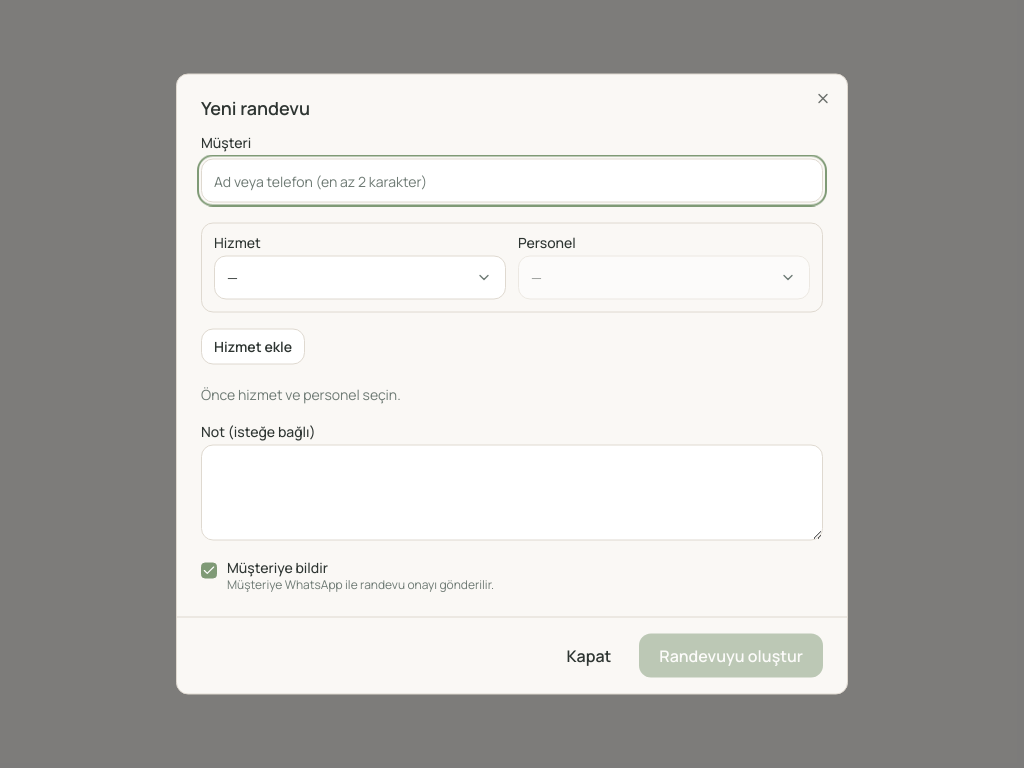
Test: randevu oluşturma › alan hataları `fieldErrors`ten forma DÜŞÜYOR
Type "ayşe" into the dropdown labelled "Müşteri".
click(512, 180); type("ayşe")  # box left=201, top=158, right=823, bottom=202
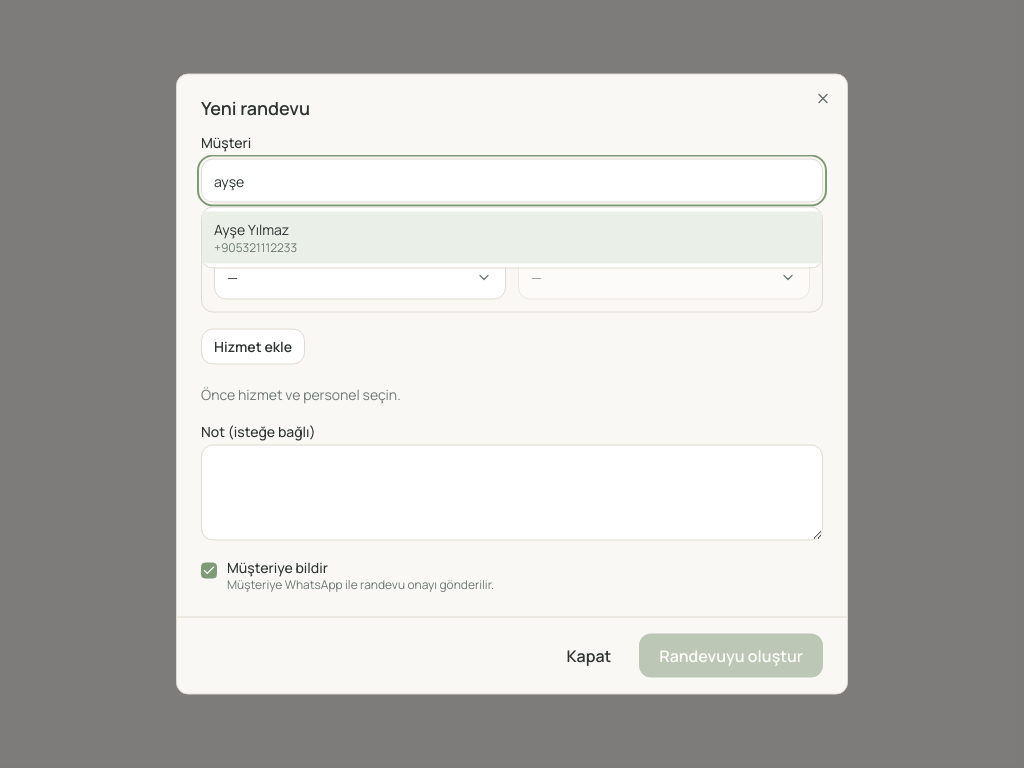
Click the option "Ayşe Yılmaz +905321112233".
click(252, 229)  # box left=202, top=212, right=822, bottom=264
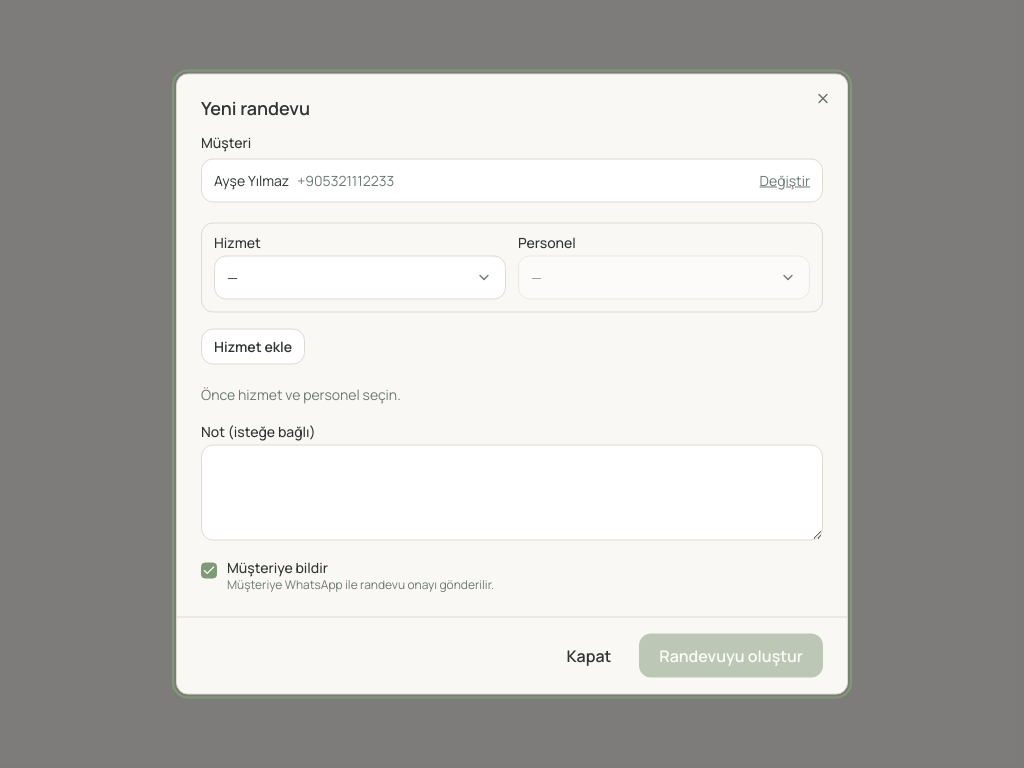
Select "Lazer (30 dk)" in the dropdown labelled "Hizmet" at (360,278), box left=214, top=256, right=506, bottom=300
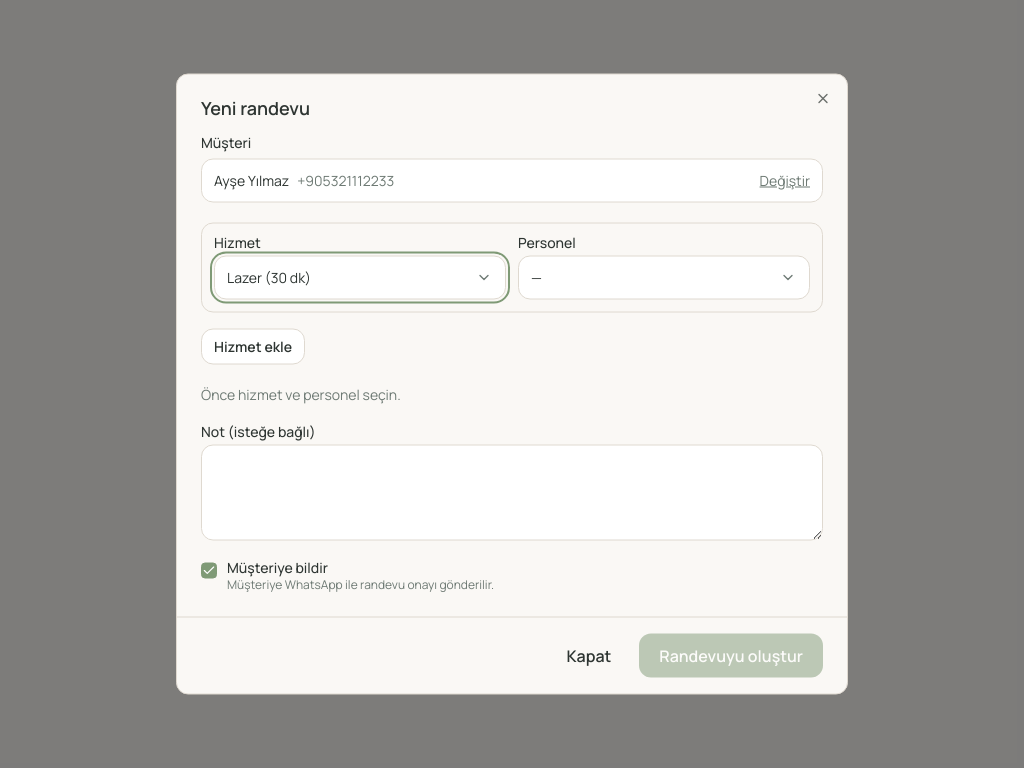
Select "Zeynep Kaya" in the dropdown labelled "Personel" at (664,278), box left=518, top=256, right=810, bottom=300
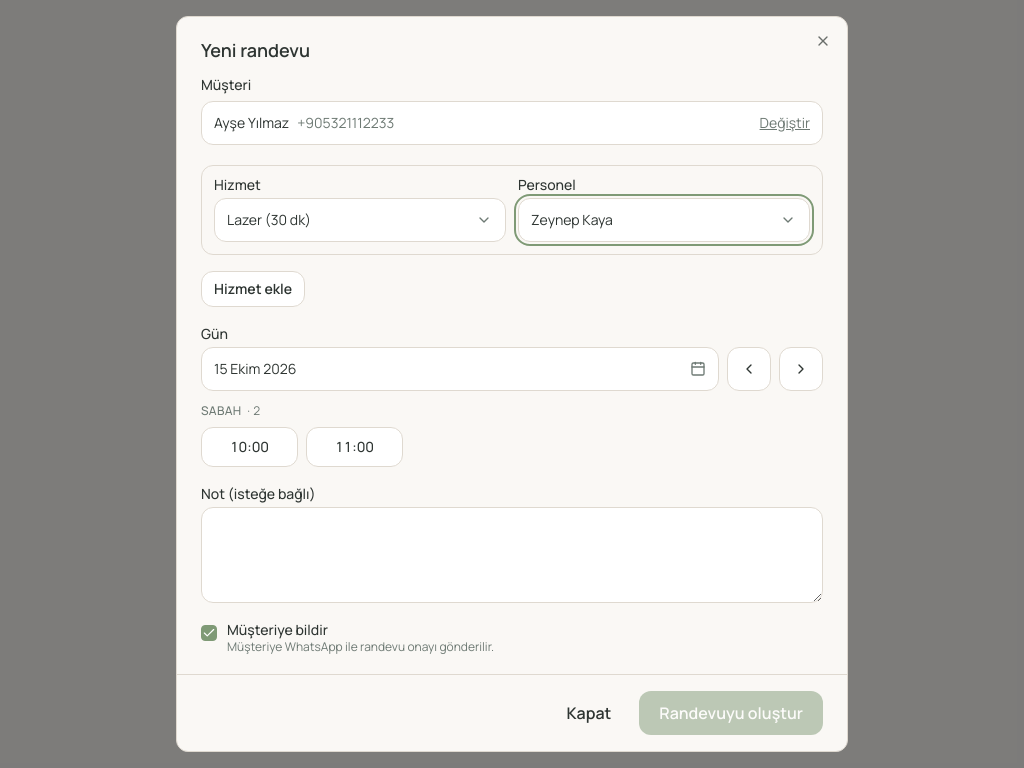
Click the button "10:00".
click(250, 447)  # box left=201, top=427, right=298, bottom=467
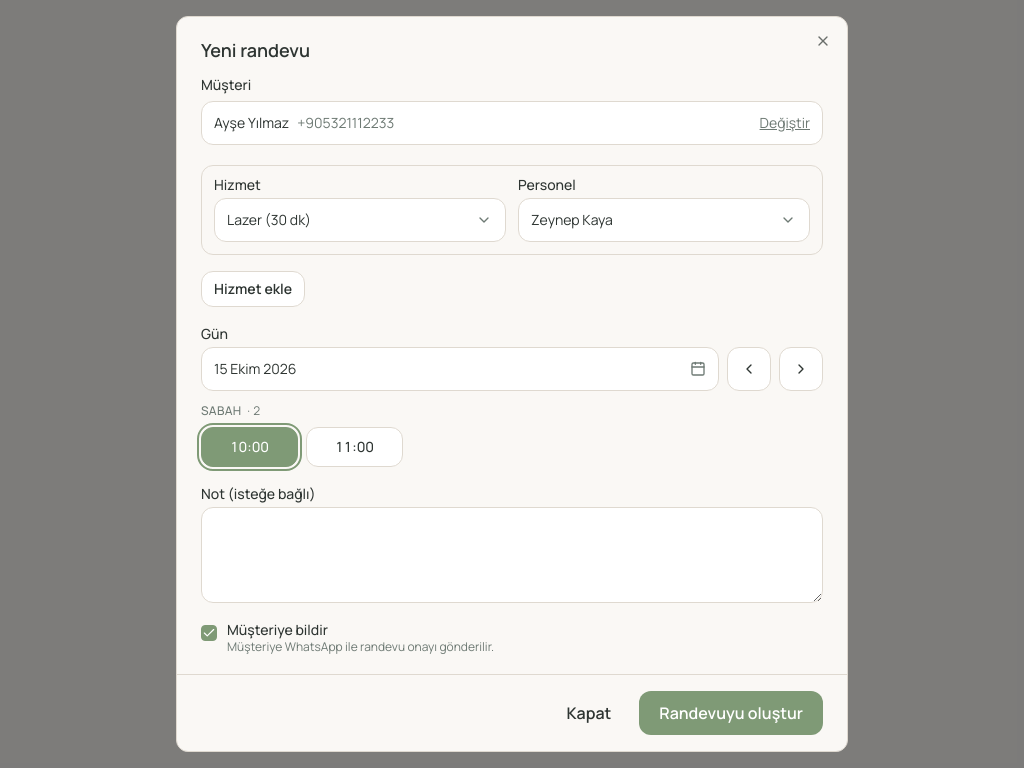
Click the button "Randevuyu oluştur".
click(731, 713)  # box left=639, top=691, right=823, bottom=735
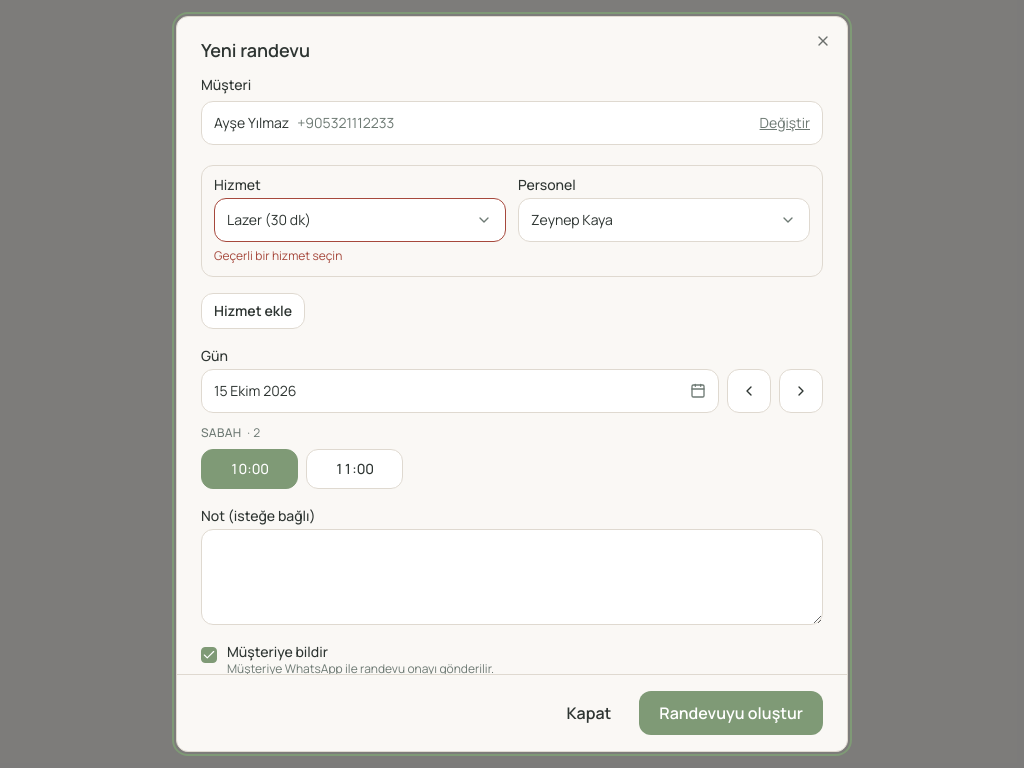
Expected: the text "Geçerli bir hizmet seçin" is shown, left=214, top=247, right=342, bottom=264
